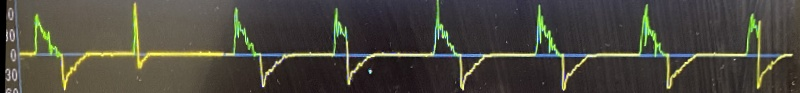hydrop_flow: (0, 0, 800, 93)
